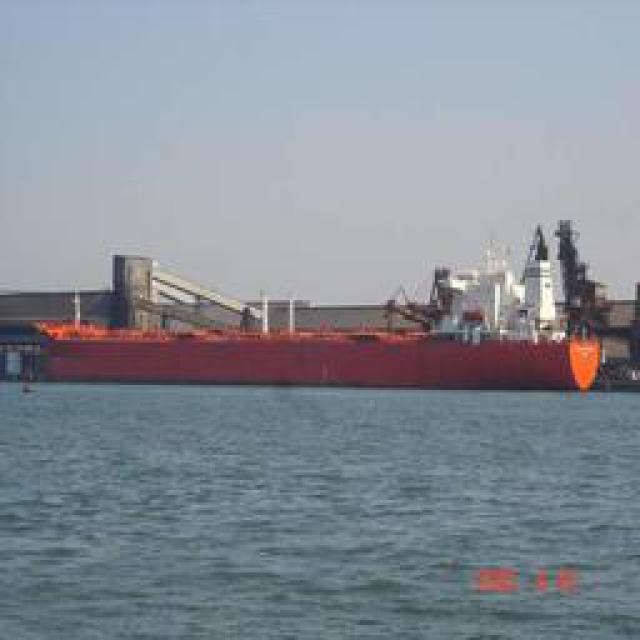Ship: (36, 246, 604, 393)
